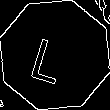L_N: (33, 26, 77, 84)
